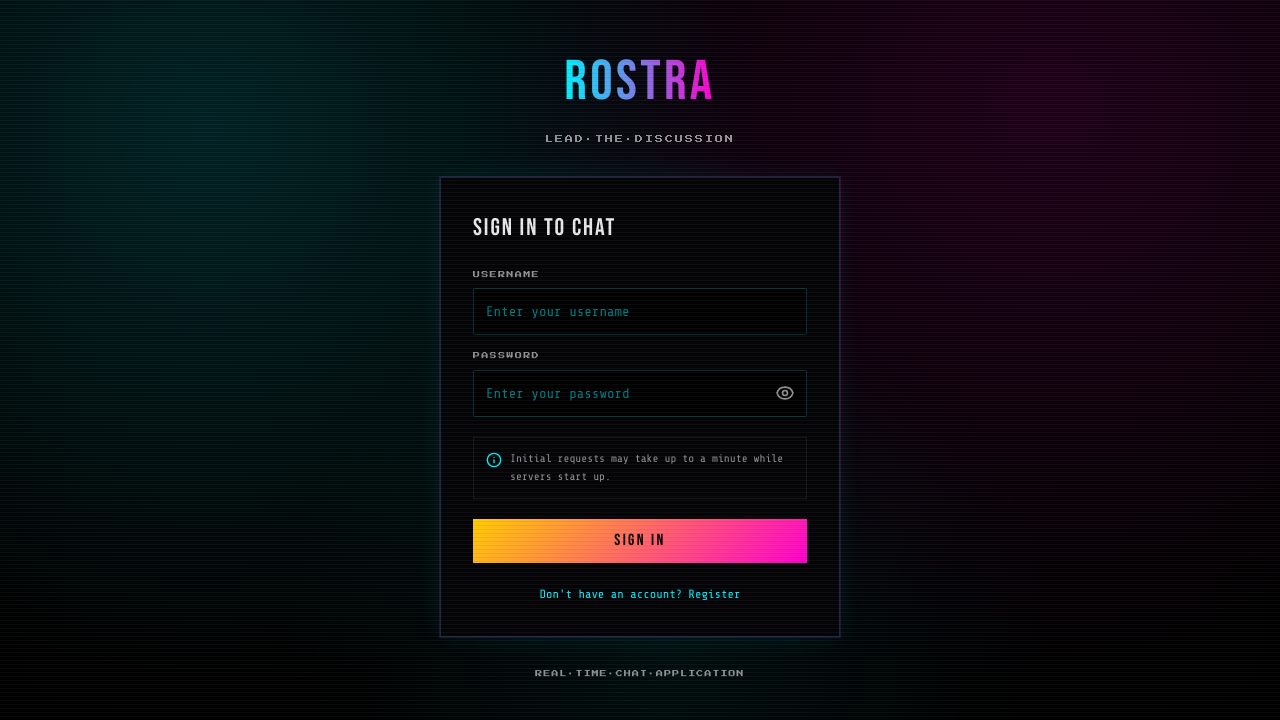
Scenario: Login › shows fallback message for non-Error failures
In the field labelled "USERNAME": (640, 312) left=473, top=288, right=807, bottom=335, type "alice"
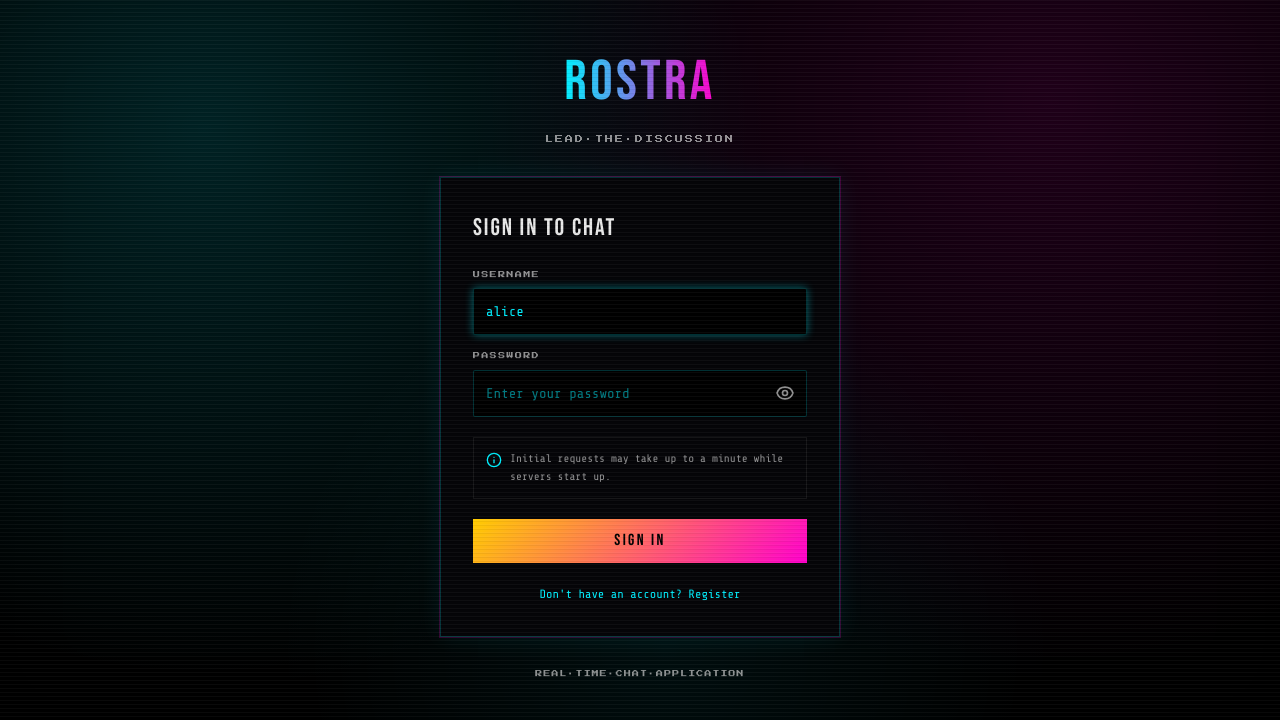
In the password field labelled "PASSWORD": (640, 393) left=473, top=370, right=807, bottom=417, type "wrong"
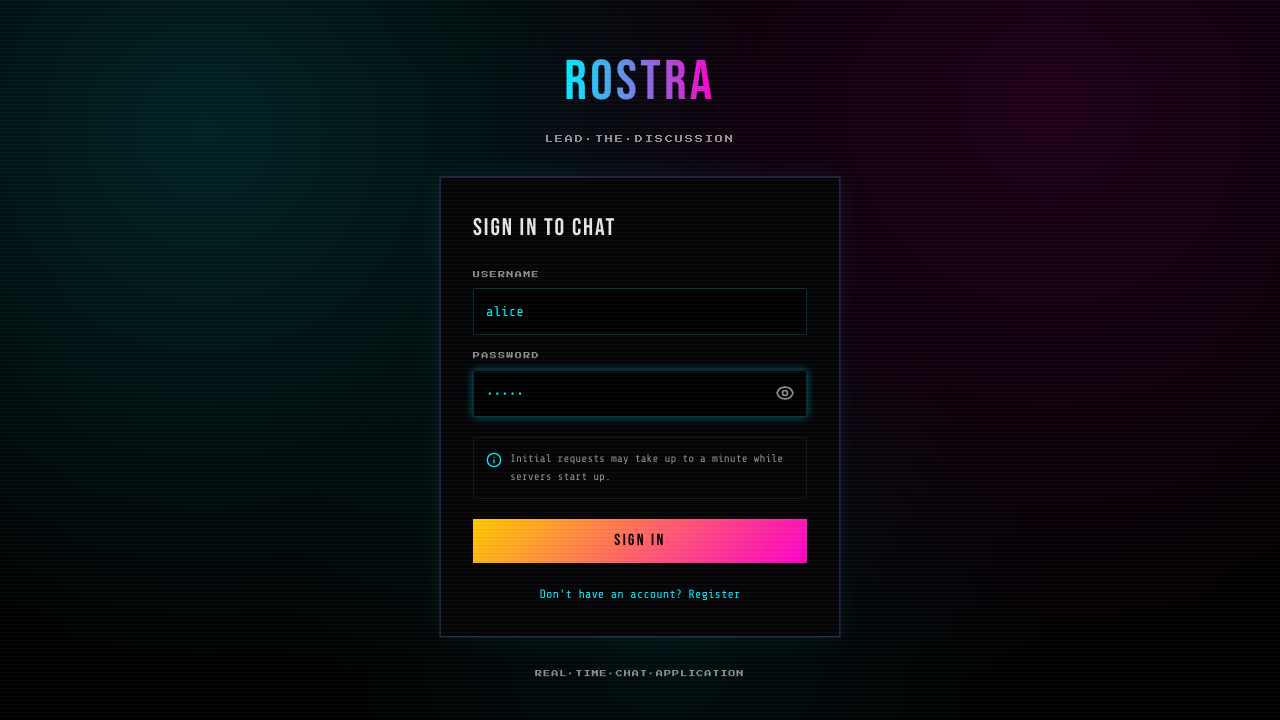
Click the button "SIGN IN": (640, 541) left=473, top=519, right=807, bottom=563
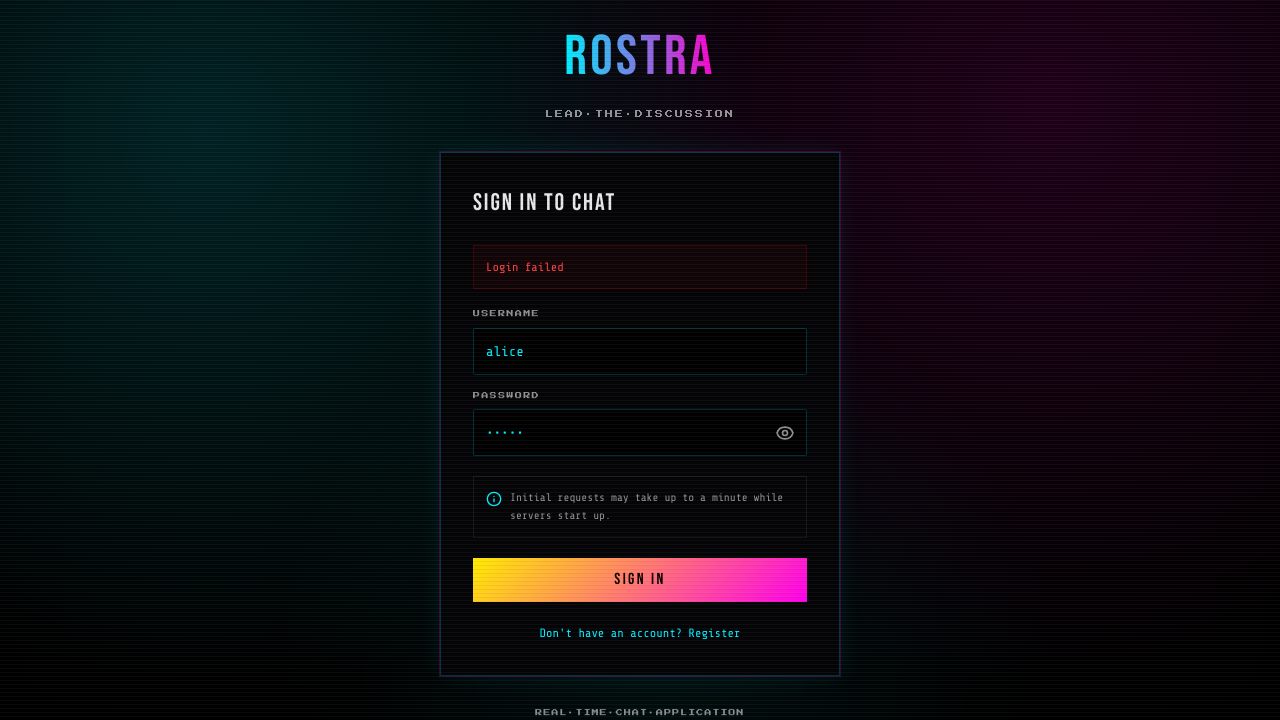
Check: the text "Login failed" is shown, box left=473, top=245, right=807, bottom=289
